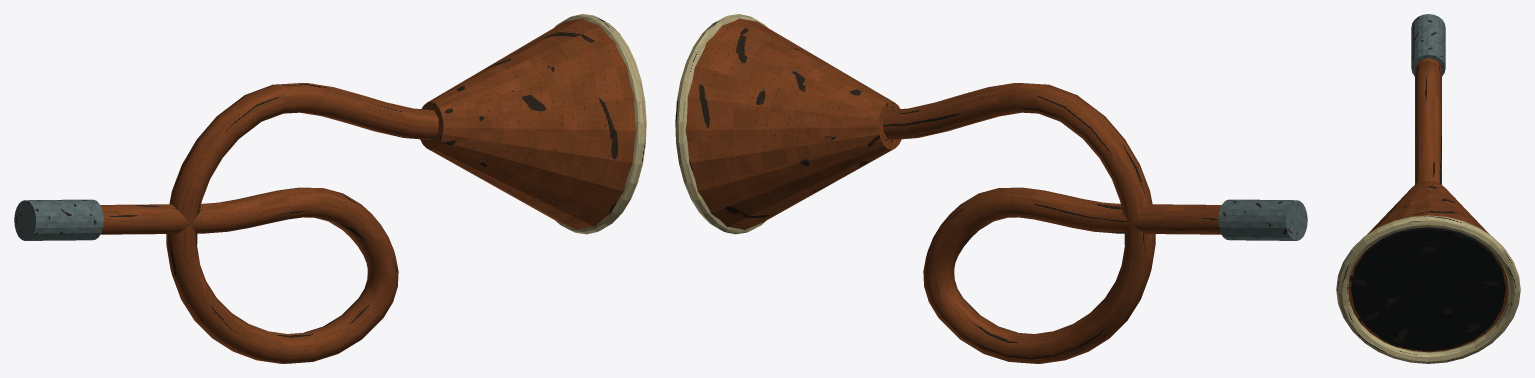
The model's file is eq-scrapbugle.glb.
The picture shows the model from 3 angles, left to right: view 1: azimuth 30°, elevation 25°; view 2: azimuth 150°, elevation 25°; view 3: azimuth 270°, elevation 25°; orthographic projection. The views are drawn at different scales.
Visible parts, largest first — view 1: Bell, Bent brass tube, Mouth, Bell rim; view 2: Bell, Bent brass tube, Mouth, Bell rim; view 3: Bell shadow, Bell rim, Bent brass tube, Bell, Mouth.
Part boxes in pixels (bbox=[...]): Bell: bbox=[420, 18, 636, 229]; Bent brass tube: bbox=[100, 83, 438, 363]; Mouth: bbox=[14, 199, 103, 240]; Bell rim: bbox=[554, 14, 646, 234]; Bell: bbox=[685, 18, 901, 229]; Bent brass tube: bbox=[883, 83, 1221, 363]; Mouth: bbox=[1218, 199, 1307, 240]; Bell rim: bbox=[675, 14, 767, 234]; Bell shadow: bbox=[1351, 227, 1505, 351]; Bell rim: bbox=[1336, 215, 1520, 363]; Bent brass tube: bbox=[1415, 58, 1441, 184]; Bell: bbox=[1348, 180, 1508, 352]; Mouth: bbox=[1411, 14, 1445, 76].
Size of the model in its own units: 0.7648 by 0.3532 by 0.248.
Materials: 4 (4 with a texture image).
